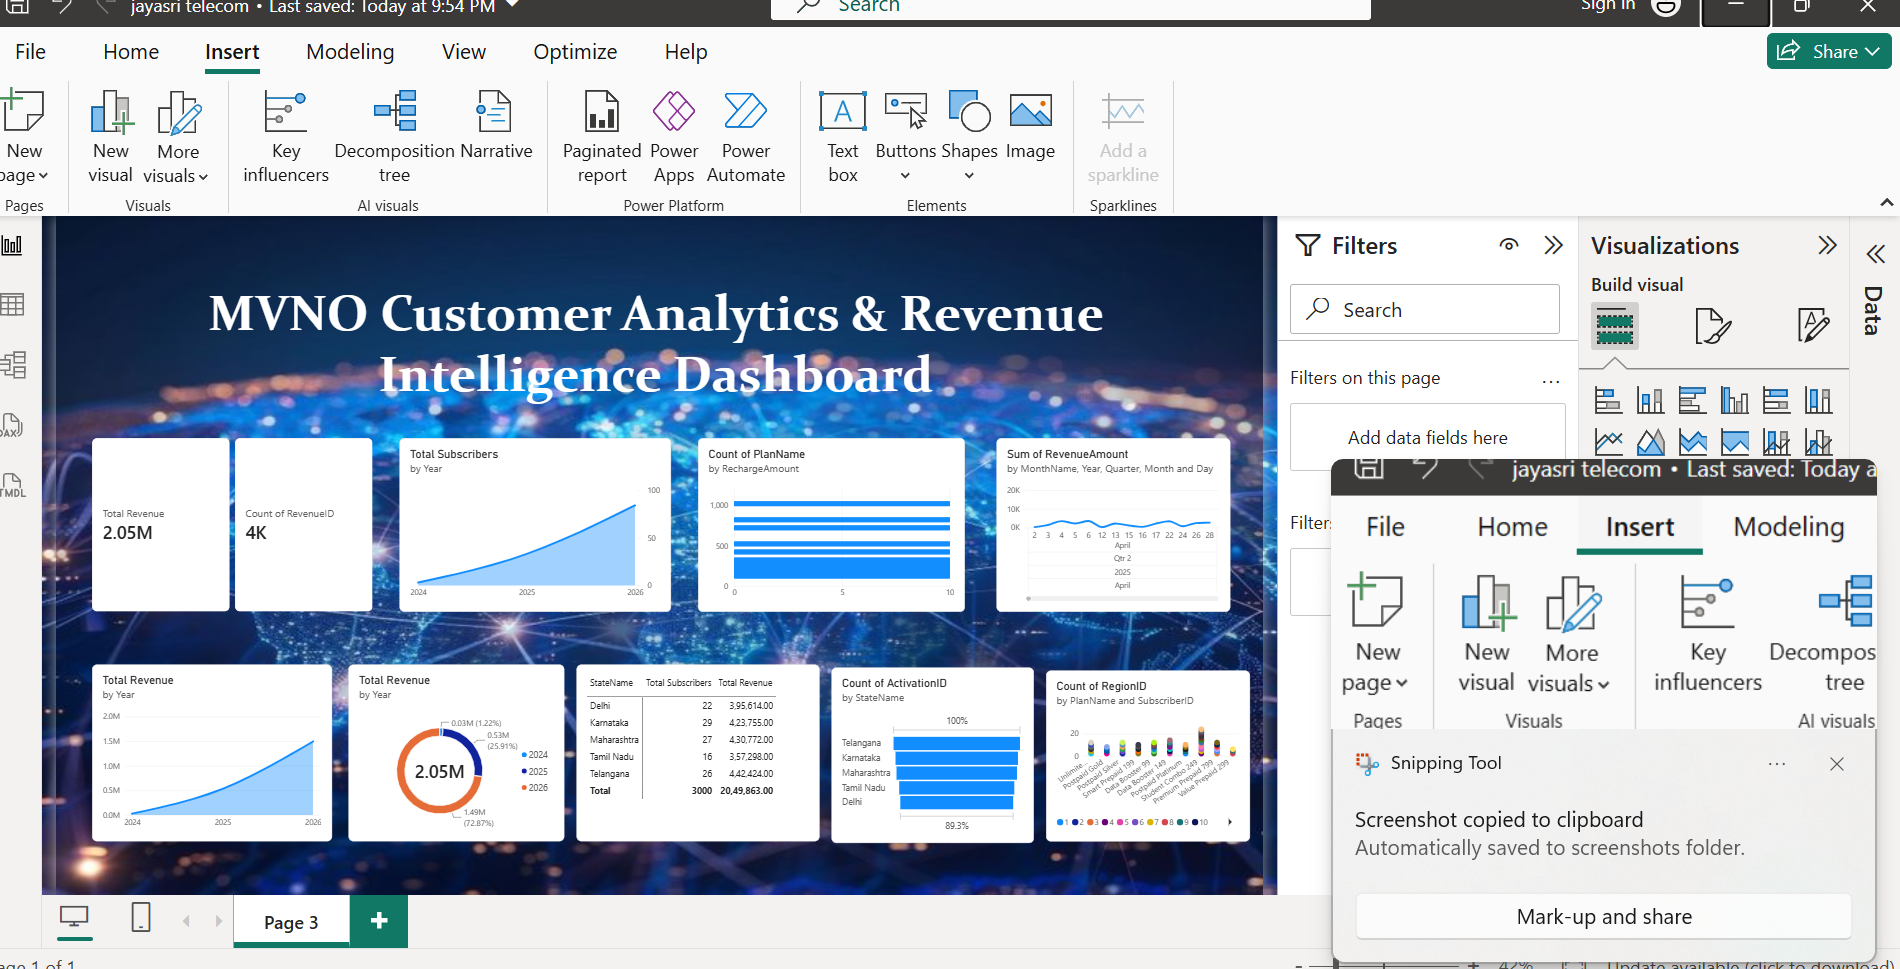

What the dashboard file says about the page in this screenshot:
{"tool":"powerbi","page":{"name":"Page 3","canvas":[1920,1080],"ordinal":0},"visuals":[{"type":"cardVisual","fields":{"Data":["measure.Total Revenue","CountNonNull(Fact_Revenue.RevenueID)"]},"box":[57.3,353.1,446.2,276.8],"z":1},{"type":"areaChart","fields":{"Category":["Dim_Date.FullDate.Variation.Date Hierarchy.Year","Dim_Date.FullDate.Variation.Date Hierarchy.Quarter","Dim_Date.FullDate.Variation.Date Hierarchy.Month","Dim_Date.FullDate.Variation.Date Hierarchy.Day"],"Y":["measure.Total Revenue"]},"box":[57.3,713.4,381.7,281.5],"z":3},{"type":"areaChart","fields":{"Category":["Dim_Date.FullDate.Variation.Date Hierarchy.Year","Dim_Date.FullDate.Variation.Date Hierarchy.Quarter","Dim_Date.FullDate.Variation.Date Hierarchy.Month","Dim_Date.FullDate.Variation.Date Hierarchy.Day"],"Y2":["measure.Total Subscribers"]},"box":[546.4,353.1,431.9,276.8],"z":4},{"type":"donutChart","fields":{"Category":["Dim_Date.FullDate.Variation.Date Hierarchy.Year","Dim_Date.FullDate.Variation.Date Hierarchy.Quarter","Dim_Date.FullDate.Variation.Date Hierarchy.Month","Dim_Date.FullDate.Variation.Date Hierarchy.Day"],"Y":["measure.Total Revenue"]},"box":[465.3,713.4,343.6,281.5],"z":5},{"type":"pivotTable","fields":{"Columns":["Dim_Region.StateName"],"Rows":["Dim_Region.StateName"],"Values":["measure.Total Subscribers","measure.Total Revenue"]},"box":[827.9,713.4,386.5,281.5],"z":6},{"type":"clusteredBarChart","fields":{"Category":["Fact_Recharge.RechargeAmount"],"Y":["CountNonNull(Dim_Plan.PlanName)"]},"box":[1021.2,353.1,424.7,276.8],"z":7},{"type":"funnel","fields":{"Category":["Dim_Region.StateName"],"Y":["CountNonNull(Fact_Activation.ActivationID)"]},"box":[1233.5,718.2,322.1,279.2],"z":8},{"type":"lineClusteredColumnComboChart","fields":{"Category":["Dim_Date.MonthName","Dim_Date.FullDate.Variation.Date Hierarchy.Year","Dim_Date.FullDate.Variation.Date Hierarchy.Quarter","Dim_Date.FullDate.Variation.Date Hierarchy.Month","Dim_Date.FullDate.Variation.Date Hierarchy.Day"],"Y2":["Sum(Fact_Revenue.RevenueAmount)"]},"box":[1496,353.1,372.2,276.8],"z":9},{"type":"stackedAreaChart","fields":{"Category":["Dim_Plan.PlanName"],"Series":["Fact_Activation.SubscriberID"],"Y":["CountNonNull(Fact_Activation.RegionID)"]},"box":[1574.7,722.9,324.5,272],"z":10},{"type":"textbox","box":[74,105,1760.8,248.1],"z":11}]}

Visuals, with their boxes on the page's 1920x1080 design canvas (x1, y1, x2, y2). These are canvas units, not pixel positions in the 1900x969 screenshot, which may show the page scaled, cropped or inside an application window:
cardVisual - measure.Total Revenue x CountNonNull(Fact_Revenue.RevenueID): (left=57, top=353, right=504, bottom=630)
areaChart - Dim_Date.FullDate.Variation.Date Hierarchy.Year x Dim_Date.FullDate.Variation.Date Hierarchy.Quarter: (left=57, top=713, right=439, bottom=995)
areaChart - Dim_Date.FullDate.Variation.Date Hierarchy.Year x Dim_Date.FullDate.Variation.Date Hierarchy.Quarter: (left=546, top=353, right=978, bottom=630)
donutChart - Dim_Date.FullDate.Variation.Date Hierarchy.Year x Dim_Date.FullDate.Variation.Date Hierarchy.Quarter: (left=465, top=713, right=809, bottom=995)
pivotTable - Dim_Region.StateName x Dim_Region.StateName: (left=828, top=713, right=1214, bottom=995)
clusteredBarChart - Fact_Recharge.RechargeAmount x CountNonNull(Dim_Plan.PlanName): (left=1021, top=353, right=1446, bottom=630)
funnel - Dim_Region.StateName x CountNonNull(Fact_Activation.ActivationID): (left=1234, top=718, right=1556, bottom=997)
lineClusteredColumnComboChart - Dim_Date.MonthName x Dim_Date.FullDate.Variation.Date Hierarchy.Year: (left=1496, top=353, right=1868, bottom=630)
stackedAreaChart - Dim_Plan.PlanName x Fact_Activation.SubscriberID: (left=1575, top=723, right=1899, bottom=995)
textbox: (left=74, top=105, right=1835, bottom=353)
